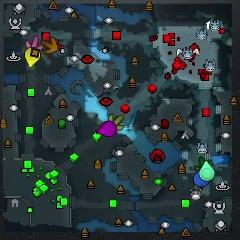p1: (192, 172, 210, 187)
p2: (199, 161, 215, 180)
p3: (97, 120, 118, 137)
p4: (25, 47, 41, 67)
x1: (25, 35, 43, 51)
x2: (108, 114, 125, 131)
x4: (194, 156, 214, 172)
x5: (41, 35, 58, 55)
